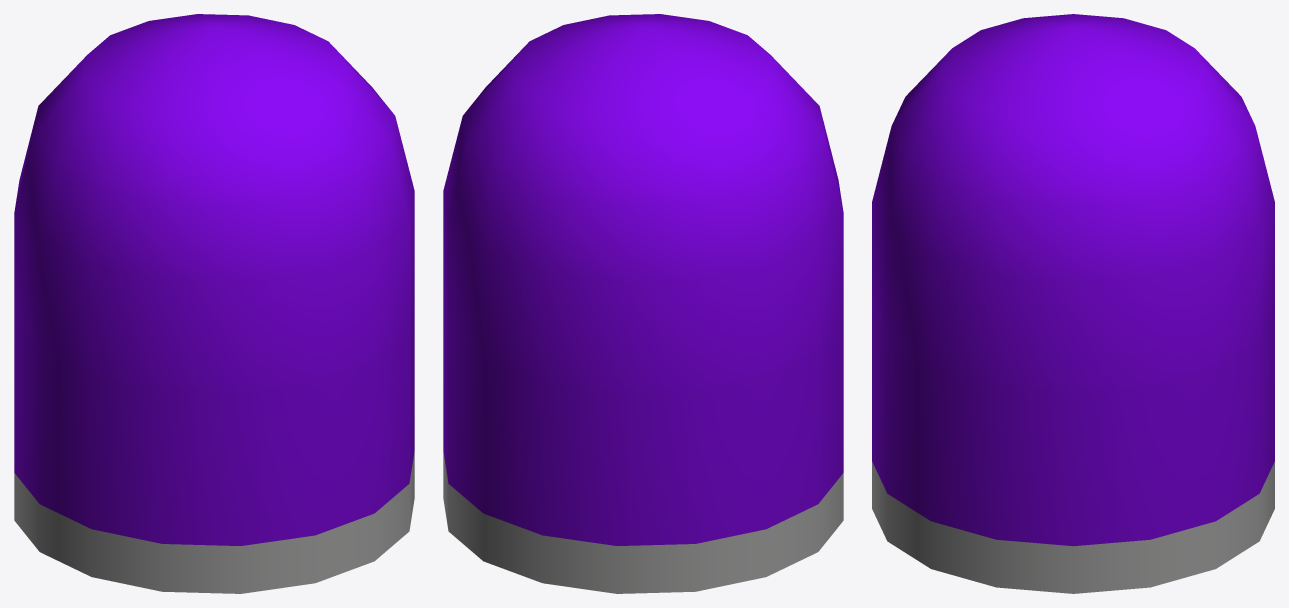
File: Arm_Sleeve_L_06_L.fbx
3 renders of one model, left to right at view 1: azimuth 30°, elevation 25°; view 2: azimuth 150°, elevation 25°; view 3: azimuth 270°, elevation 25°, orthographic.
Parts seen in each view (by area): view 1: Arm_Sleeve_L_06_L; view 2: Arm_Sleeve_L_06_L; view 3: Arm_Sleeve_L_06_L.
Boxes of the visible parts, box(x1,y1,x2,y2) form: Arm_Sleeve_L_06_L: box(14, 14, 414, 593); Arm_Sleeve_L_06_L: box(443, 14, 843, 593); Arm_Sleeve_L_06_L: box(872, 14, 1274, 593).
Size of the model in its own units: 48.18 by 63.45 by 48.18.
